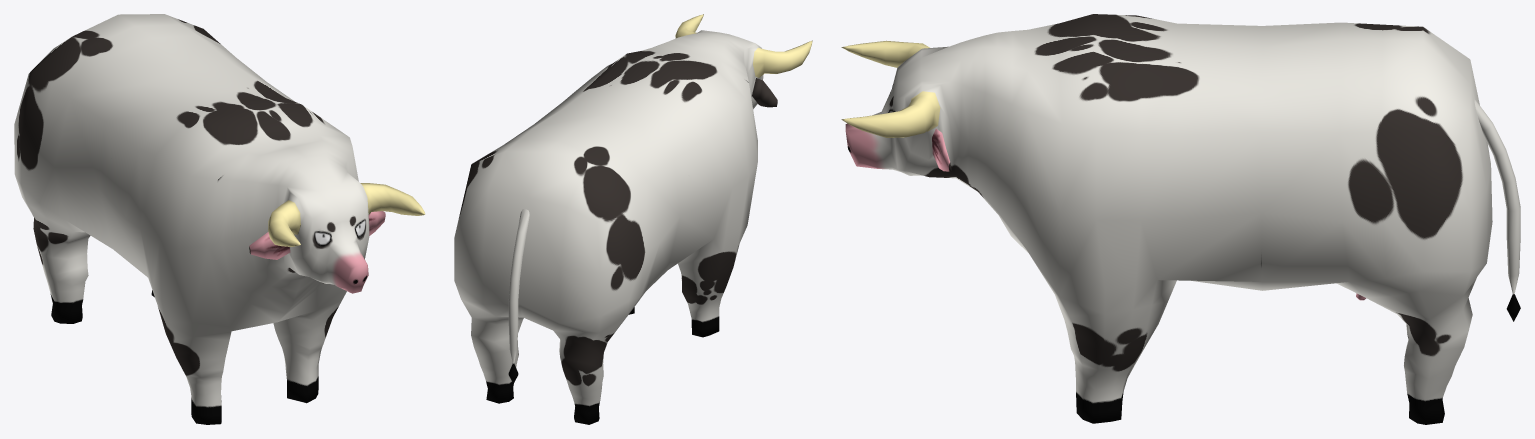
Rendered from MSH_vaca.FBX.
3 views of the same model, side by side, from view 1: azimuth 30°, elevation 25°; view 2: azimuth 150°, elevation 25°; view 3: azimuth 270°, elevation 25° (orthographic). The views are drawn at different scales.
Visible parts, largest first — view 1: vaca; view 2: vaca; view 3: vaca.
Part boxes in pixels (bbox=[...]): vaca: bbox=[14, 14, 425, 424]; vaca: bbox=[454, 14, 812, 424]; vaca: bbox=[841, 14, 1520, 424].
Bounding box in the file's own units: 72.95 × 105 × 184.
